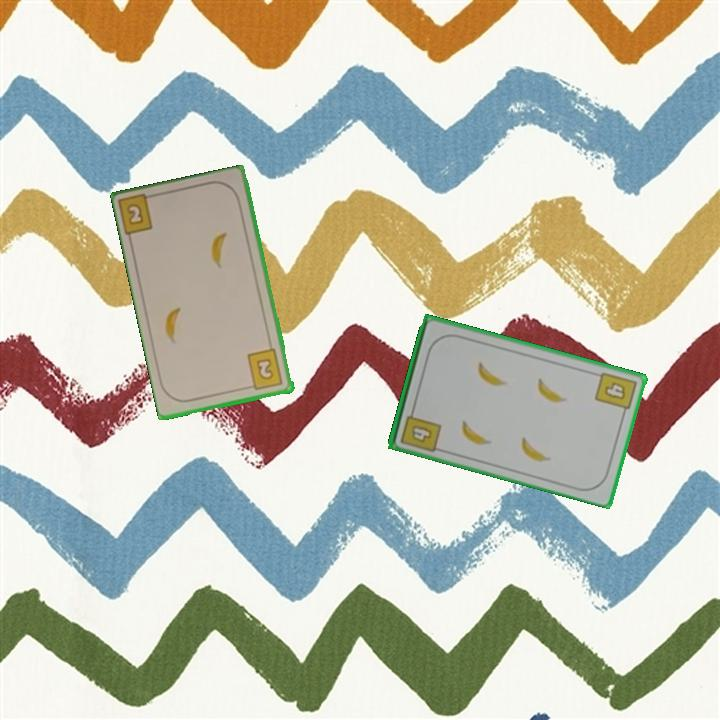2b: (117, 190, 161, 239), (244, 346, 286, 393)
4b: (591, 368, 639, 419), (397, 404, 444, 455)
